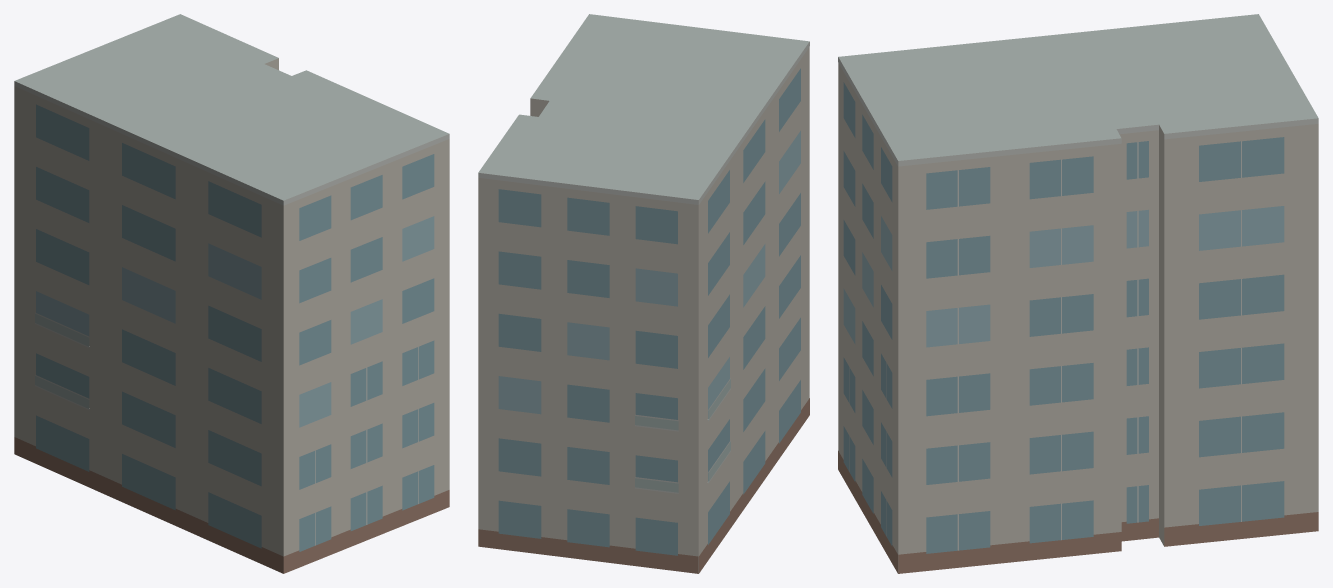
The model's file is survey-upis-32969992.glb.
3 renders of one model, left to right at view 1: azimuth 30°, elevation 25°; view 2: azimuth 150°, elevation 25°; view 3: azimuth 270°, elevation 25°, orthographic. The views are drawn at different scales.
Visible parts, largest first — view 1: survey-upis-32969992.tmp; view 2: survey-upis-32969992.tmp; view 3: survey-upis-32969992.tmp.
Part boxes in pixels (x1=…): survey-upis-32969992.tmp: x1=14, y1=14, x2=449, y2=573; survey-upis-32969992.tmp: x1=478, y1=14, x2=809, y2=573; survey-upis-32969992.tmp: x1=838, y1=14, x2=1318, y2=573.
Size of the model in its own units: 13.99 by 18.3 by 19.31.
